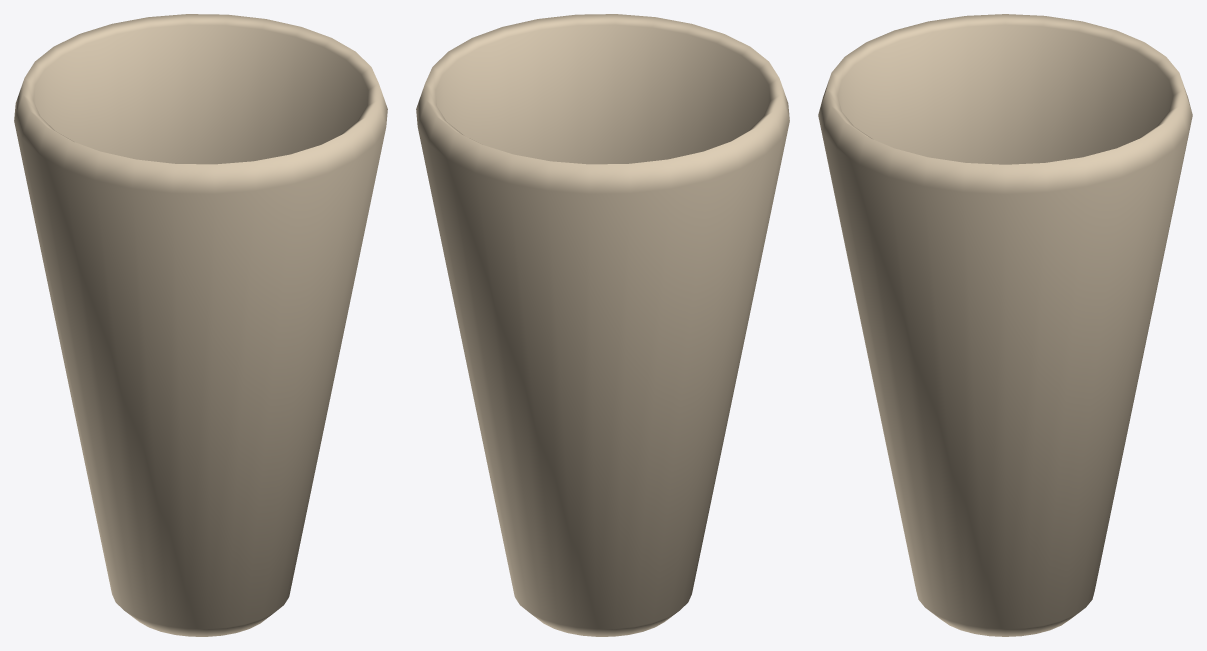
The model's file is i_vase_4_1.glb.
3 views of the same model, side by side, from view 1: azimuth 30°, elevation 25°; view 2: azimuth 150°, elevation 25°; view 3: azimuth 270°, elevation 25° (orthographic).
Parts seen in each view (by area): view 1: o; view 2: o; view 3: o.
Part boxes in pixels (x1,y1,x2,y2): o: (14,14,387,636); o: (416,14,789,636); o: (818,14,1192,636).
Size of the model in its own units: 0.21 by 0.32 by 0.21.
